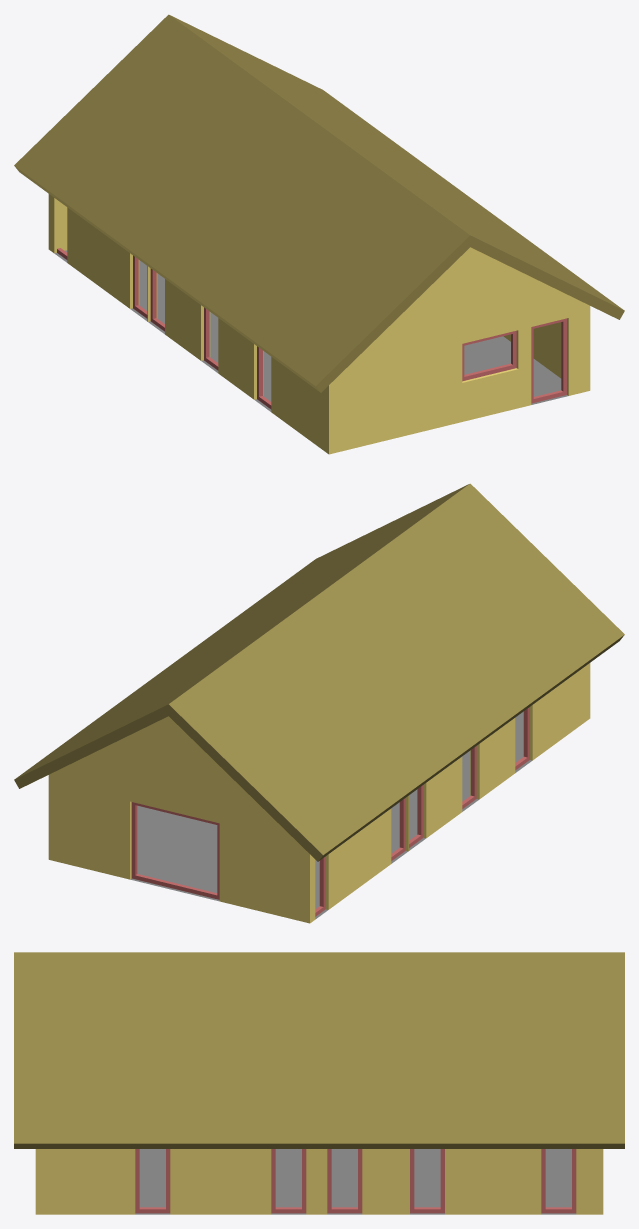
The model's file is result.glb.
The picture shows the model from 3 angles, top to bottom: view 1: azimuth 30°, elevation 25°; view 2: azimuth 150°, elevation 25°; view 3: azimuth 270°, elevation 25°; orthographic projection.
Parts seen in each view (by area): view 1: 68aac984-9861-44dc-9ed8-0af36539c78f__undefined (×2), e46f13b4-bed9-4774-ba60-a4d0396296a7__undefined, 89b358ca-9cfa-44e9-8619-42957657611e__Plane_14, ec19fc50-b6a2-40c2-9de8-b5e58b2b8aff__Box, 981bc121-ced4-40e8-931e-19485f3c4875__Box_3; view 2: 68aac984-9861-44dc-9ed8-0af36539c78f__undefined (×2), e46f13b4-bed9-4774-ba60-a4d0396296a7__undefined, 89b358ca-9cfa-44e9-8619-42957657611e__Plane_14, 48cb85e5-f140-470e-bcf5-fdf2093478fb__Box_9; view 3: 68aac984-9861-44dc-9ed8-0af36539c78f__undefined, e46f13b4-bed9-4774-ba60-a4d0396296a7__undefined, 89b358ca-9cfa-44e9-8619-42957657611e__Plane_14, a1596ca1-0962-4a03-a0f1-b3f1bf500eb0__Box_27, 62e11325-9e23-4706-aeb9-dcf37d4ae476__Box_30, bd651670-4e38-45b5-aeb4-a94fe525b183__Box_33, ec584b3d-42f9-4c53-be1e-d8de0ec4a823__Box_39, e53e0823-ee83-424a-9902-9458e2daa0a9__Box_36.
Part boxes in pixels (x1,y1,x2,y2): 68aac984-9861-44dc-9ed8-0af36539c78f__undefined (×2): [14, 14, 624, 392]; e46f13b4-bed9-4774-ba60-a4d0396296a7__undefined: [48, 194, 590, 454]; 89b358ca-9cfa-44e9-8619-42957657611e__Plane_14: [54, 250, 567, 411]; ec19fc50-b6a2-40c2-9de8-b5e58b2b8aff__Box: [531, 318, 566, 403]; 981bc121-ced4-40e8-931e-19485f3c4875__Box_3: [462, 330, 516, 381]; 68aac984-9861-44dc-9ed8-0af36539c78f__undefined (×2): [14, 483, 624, 861]; e46f13b4-bed9-4774-ba60-a4d0396296a7__undefined: [48, 663, 590, 923]; 89b358ca-9cfa-44e9-8619-42957657611e__Plane_14: [130, 712, 532, 919]; 48cb85e5-f140-470e-bcf5-fdf2093478fb__Box_9: [131, 802, 219, 899]; 68aac984-9861-44dc-9ed8-0af36539c78f__undefined: [14, 952, 624, 1148]; e46f13b4-bed9-4774-ba60-a4d0396296a7__undefined: [35, 1149, 603, 1214]; 89b358ca-9cfa-44e9-8619-42957657611e__Plane_14: [135, 1149, 576, 1214]; a1596ca1-0962-4a03-a0f1-b3f1bf500eb0__Box_27: [135, 1149, 170, 1213]; 62e11325-9e23-4706-aeb9-dcf37d4ae476__Box_30: [271, 1149, 306, 1213]; bd651670-4e38-45b5-aeb4-a94fe525b183__Box_33: [327, 1149, 362, 1213]; ec584b3d-42f9-4c53-be1e-d8de0ec4a823__Box_39: [541, 1149, 576, 1213]; e53e0823-ee83-424a-9902-9458e2daa0a9__Box_36: [410, 1149, 444, 1213].
Size of the model in its own units: 829 by 500 by 1400.
